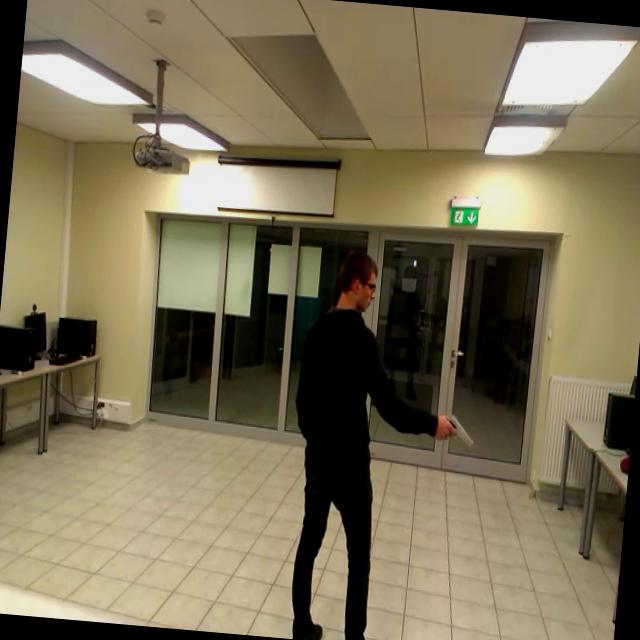handgun: (440, 408, 478, 458)
